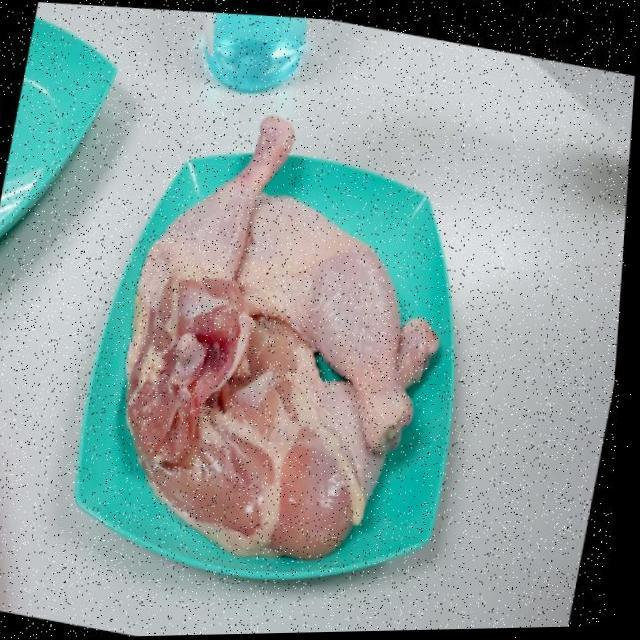quater: (115, 108, 314, 508), (170, 316, 450, 564), (242, 202, 442, 464)
